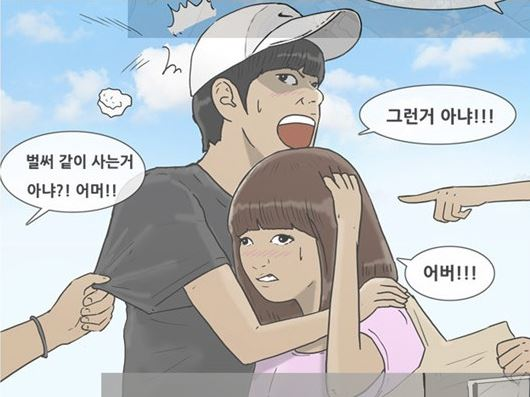hat: (187, 2, 364, 75)
